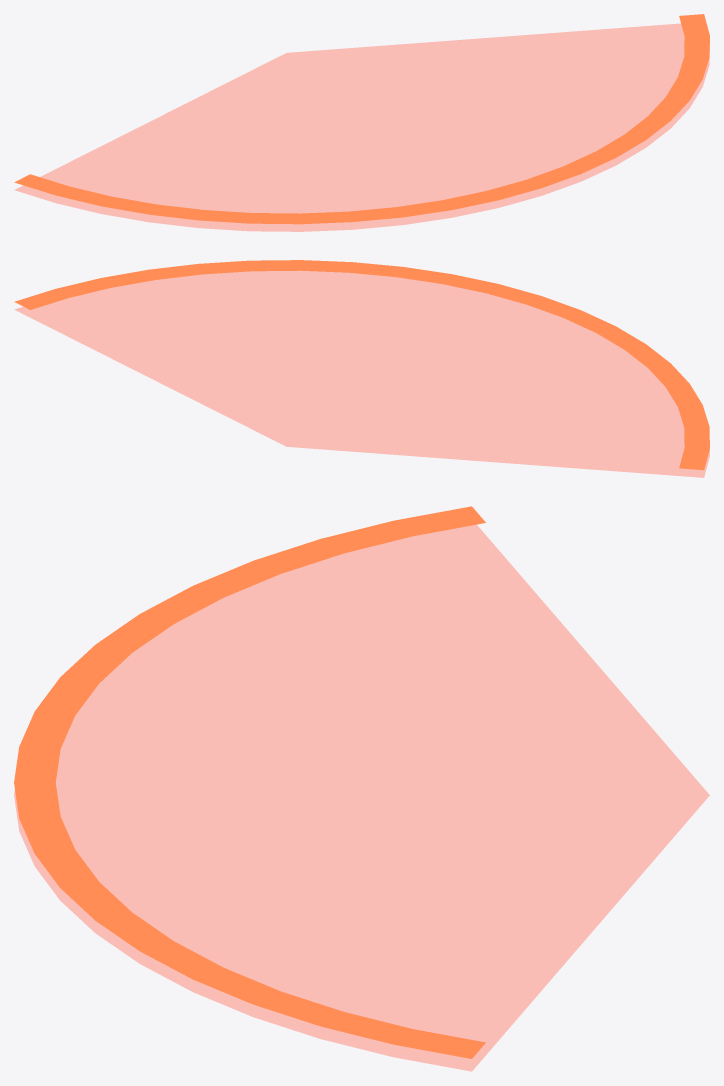
3 views of the same model, one above another, from view 1: azimuth 30°, elevation 25°; view 2: azimuth 150°, elevation 25°; view 3: azimuth 270°, elevation 25° (orthographic). The views are drawn at different scales.
Parts seen in each view (by area): view 1: fx_r_cone_fill, fx_r_cone_rim; view 2: fx_r_cone_fill, fx_r_cone_rim; view 3: fx_r_cone_fill, fx_r_cone_rim.
Part boxes in pixels (left/top/right/bottom): fx_r_cone_fill: left=15, top=23, right=709, bottom=231; fx_r_cone_rim: left=14, top=14, right=709, bottom=224; fx_r_cone_fill: left=15, top=271, right=709, bottom=477; fx_r_cone_rim: left=14, top=260, right=709, bottom=470; fx_r_cone_fill: left=14, top=525, right=709, bottom=1071; fx_r_cone_rim: left=14, top=506, right=485, bottom=1058.
Bounding box in the file's own units: 1.88 × 0.02 × 1.
